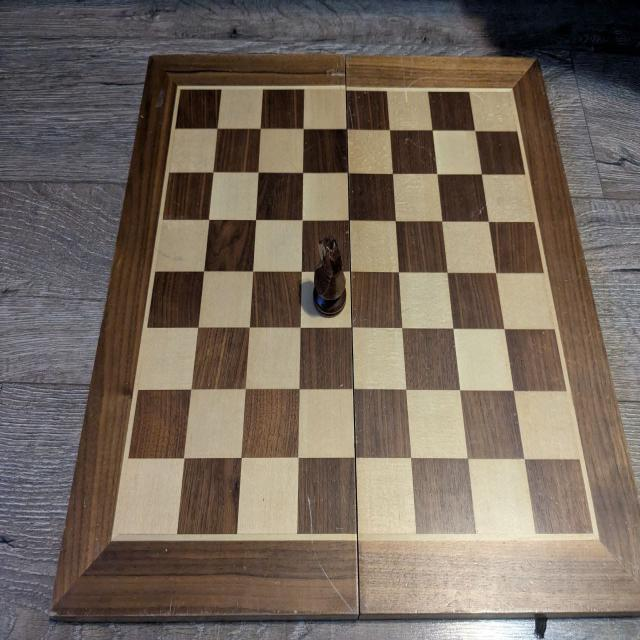black_knight: (312, 234, 348, 318)
